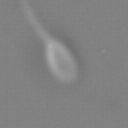normal: (9, 1, 52, 42)
